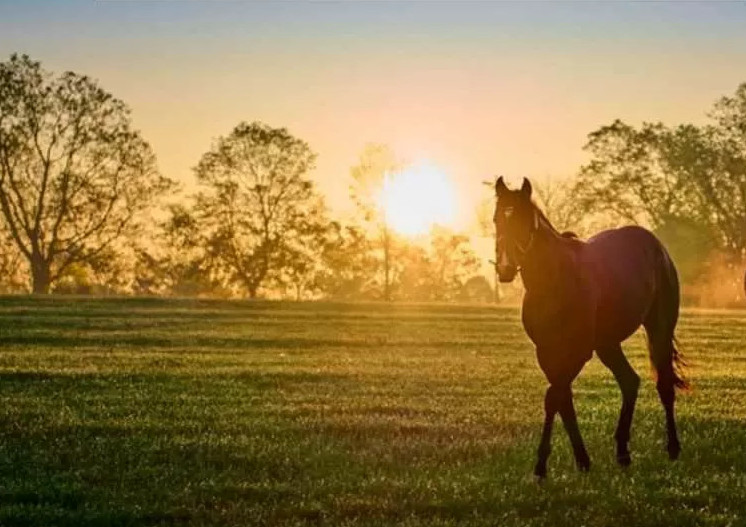horse: (490, 174, 687, 484)
